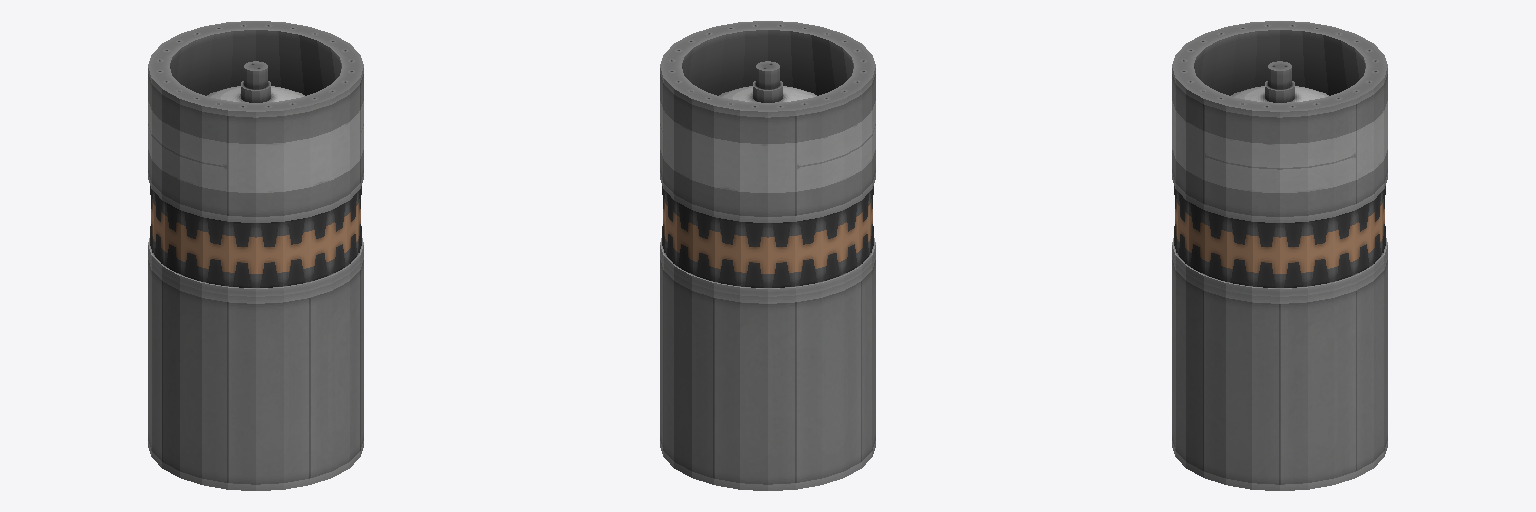
3 views of the same model, side by side, from view 1: azimuth 30°, elevation 25°; view 2: azimuth 150°, elevation 25°; view 3: azimuth 270°, elevation 25° (orthographic).
Parts seen in each view (by area): view 1: Wax_SRB_A, Wax_SRB_A_Fairing; view 2: Wax_SRB_A, Wax_SRB_A_Fairing; view 3: Wax_SRB_A, Wax_SRB_A_Fairing.
Boxes of the visible parts, x1,y1,x2,y2 form: Wax_SRB_A: [148, 21, 363, 296]; Wax_SRB_A_Fairing: [148, 253, 363, 490]; Wax_SRB_A: [660, 21, 875, 296]; Wax_SRB_A_Fairing: [660, 253, 875, 490]; Wax_SRB_A: [1172, 21, 1387, 296]; Wax_SRB_A_Fairing: [1172, 253, 1387, 490].
Size of the model in its own units: 0.625 by 1.21 by 0.625.
2 materials, 1 textured.